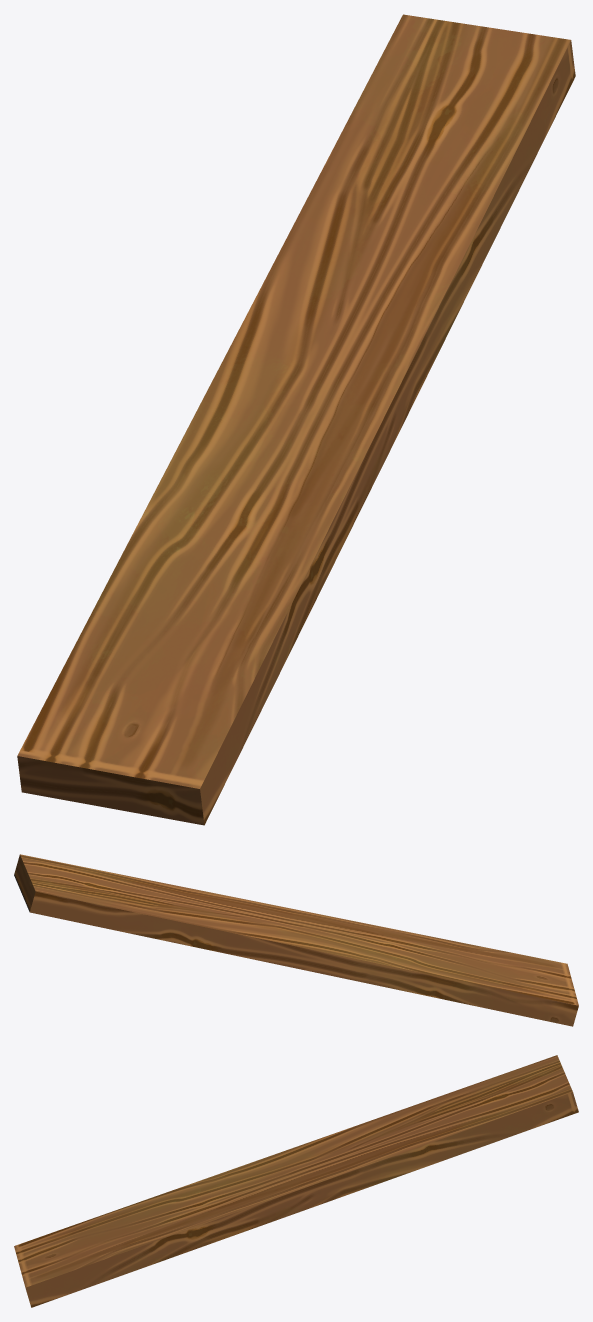
3 views of the same model, one above another, from view 1: azimuth 30°, elevation 25°; view 2: azimuth 150°, elevation 25°; view 3: azimuth 330°, elevation 25° (orthographic). The views are drawn at different scales.
Parts seen in each view (by area): view 1: Cube.650; view 2: Cube.650; view 3: Cube.650.
Part boxes in pixels (box(x1,y1,x2,y2)): Cube.650: box(17, 14, 575, 825); Cube.650: box(14, 854, 578, 1026); Cube.650: box(14, 1055, 578, 1307).
Size of the model in its own units: 274 by 108 by 244.
Materials: 1 (1 with a texture image).
